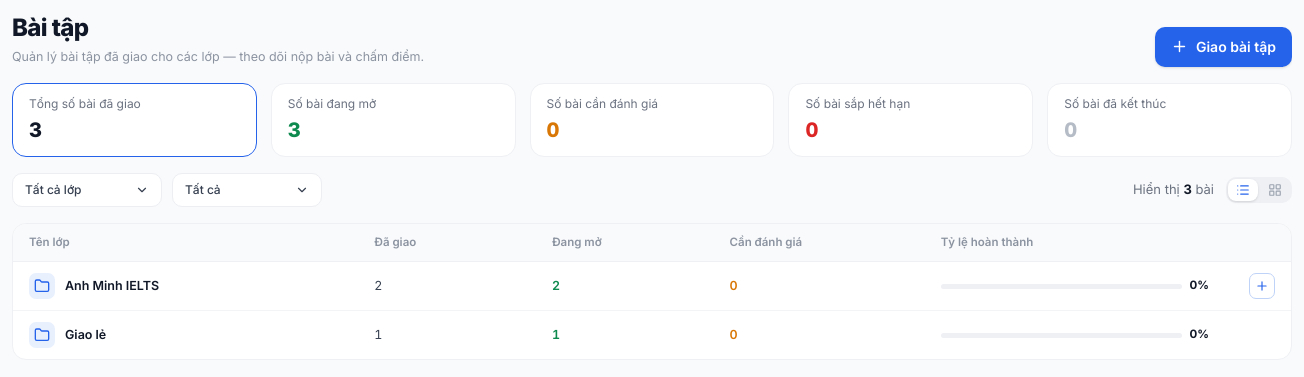
Test: Bài tập — bộ lọc chỉ liệt kê lớp còn tồn tại › still reaches a deleted set, under its fallback title
Click the button with test id "class-folder-row-c-live" at coordinates (112, 285), box [13,262,1291,311]
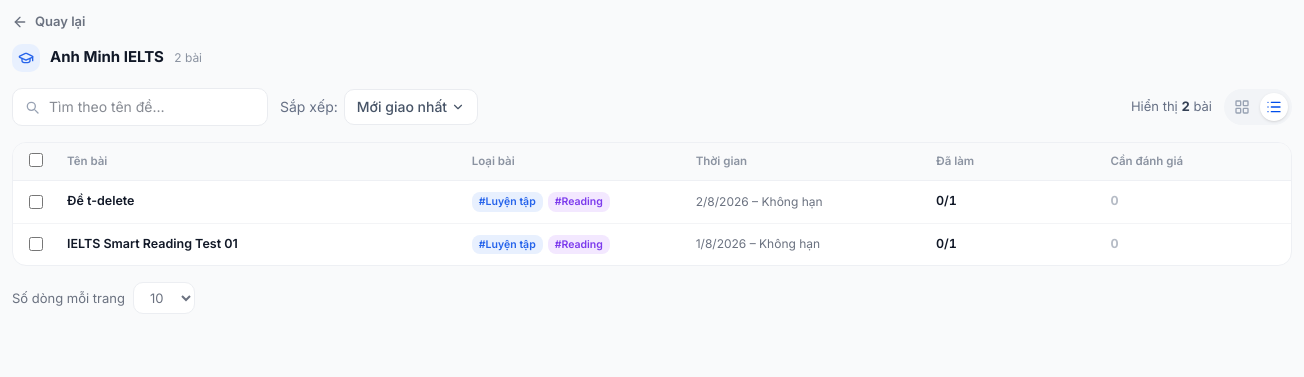
Expected: the text "IELTS Smart Reading Test 01" is shown, [67,236,238,251]
Expected: the text "Đề t-delete" is shown, [67,193,134,208]
